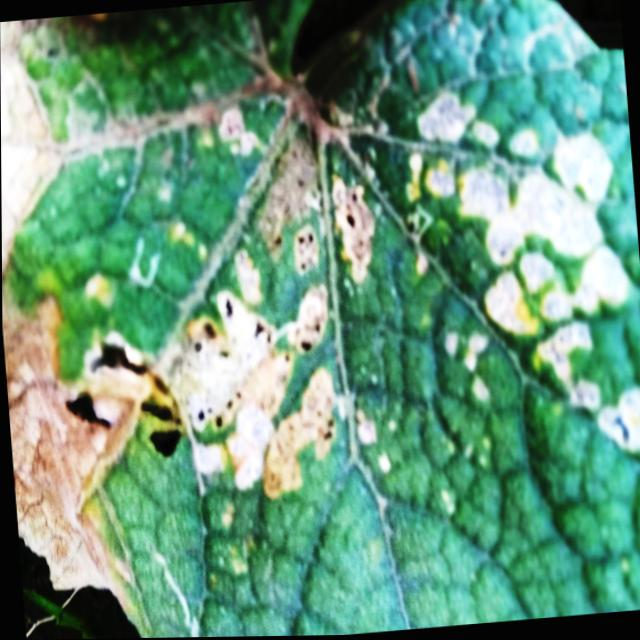Anthracnose: (54, 329, 190, 473)
